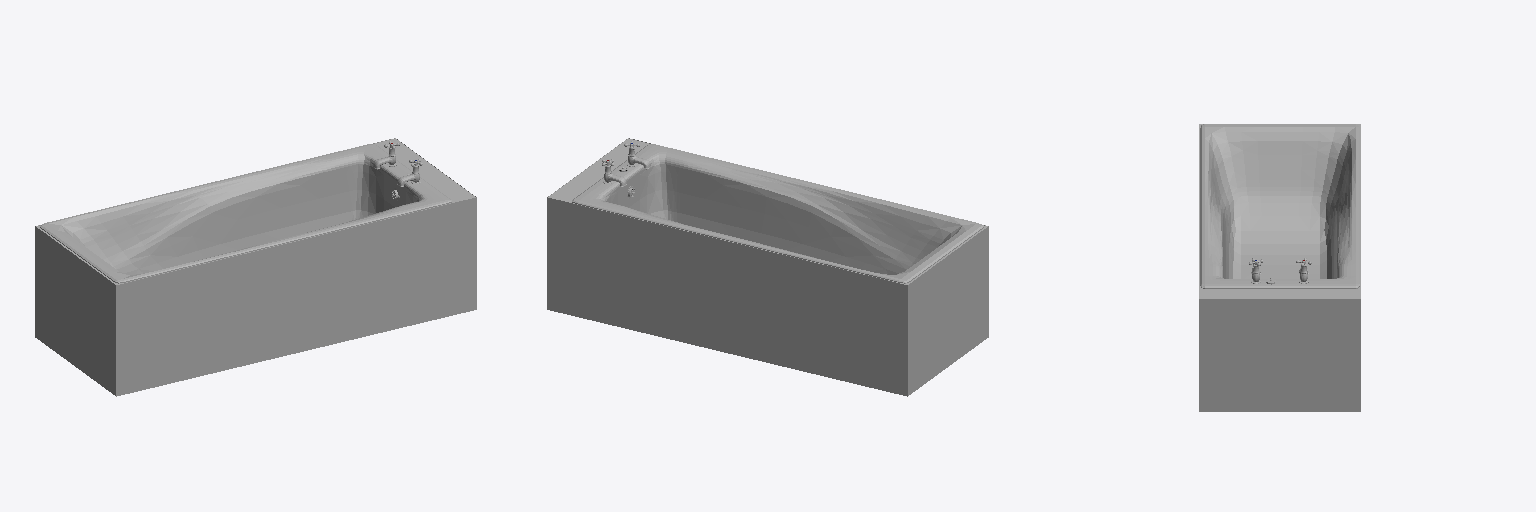
File: bath_jay_hardy.obj
3 views of the same model, side by side, from view 1: azimuth 30°, elevation 25°; view 2: azimuth 150°, elevation 25°; view 3: azimuth 270°, elevation 25° (orthographic).
Parts seen in each view (by area): view 1: Bath-back-panel_Plane.014, Bath_Plane.001; view 2: Bath-back-panel_Plane.014, Bath_Plane.001; view 3: Bath_Plane.001, Bath-back-panel_Plane.014.
Boxes of the visible parts, <box> form: Bath-back-panel_Plane.014: <box>35,138,476,396</box>; Bath_Plane.001: <box>40,144,451,283</box>; Bath-back-panel_Plane.014: <box>547,138,988,396</box>; Bath_Plane.001: <box>572,144,983,283</box>; Bath_Plane.001: <box>1200,124,1359,288</box>; Bath-back-panel_Plane.014: <box>1199,124,1360,411</box>.
Bounding box in the file's own units: 180 × 65.06 × 70.08.